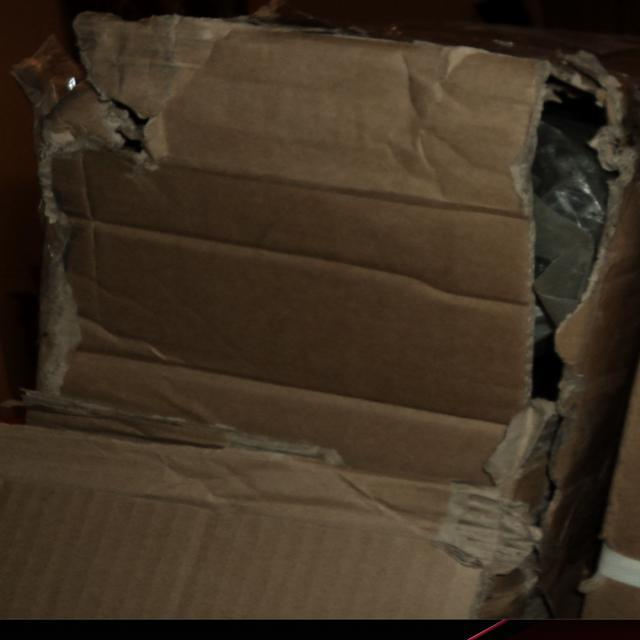hole: (470, 79, 622, 429), (48, 50, 164, 182)
